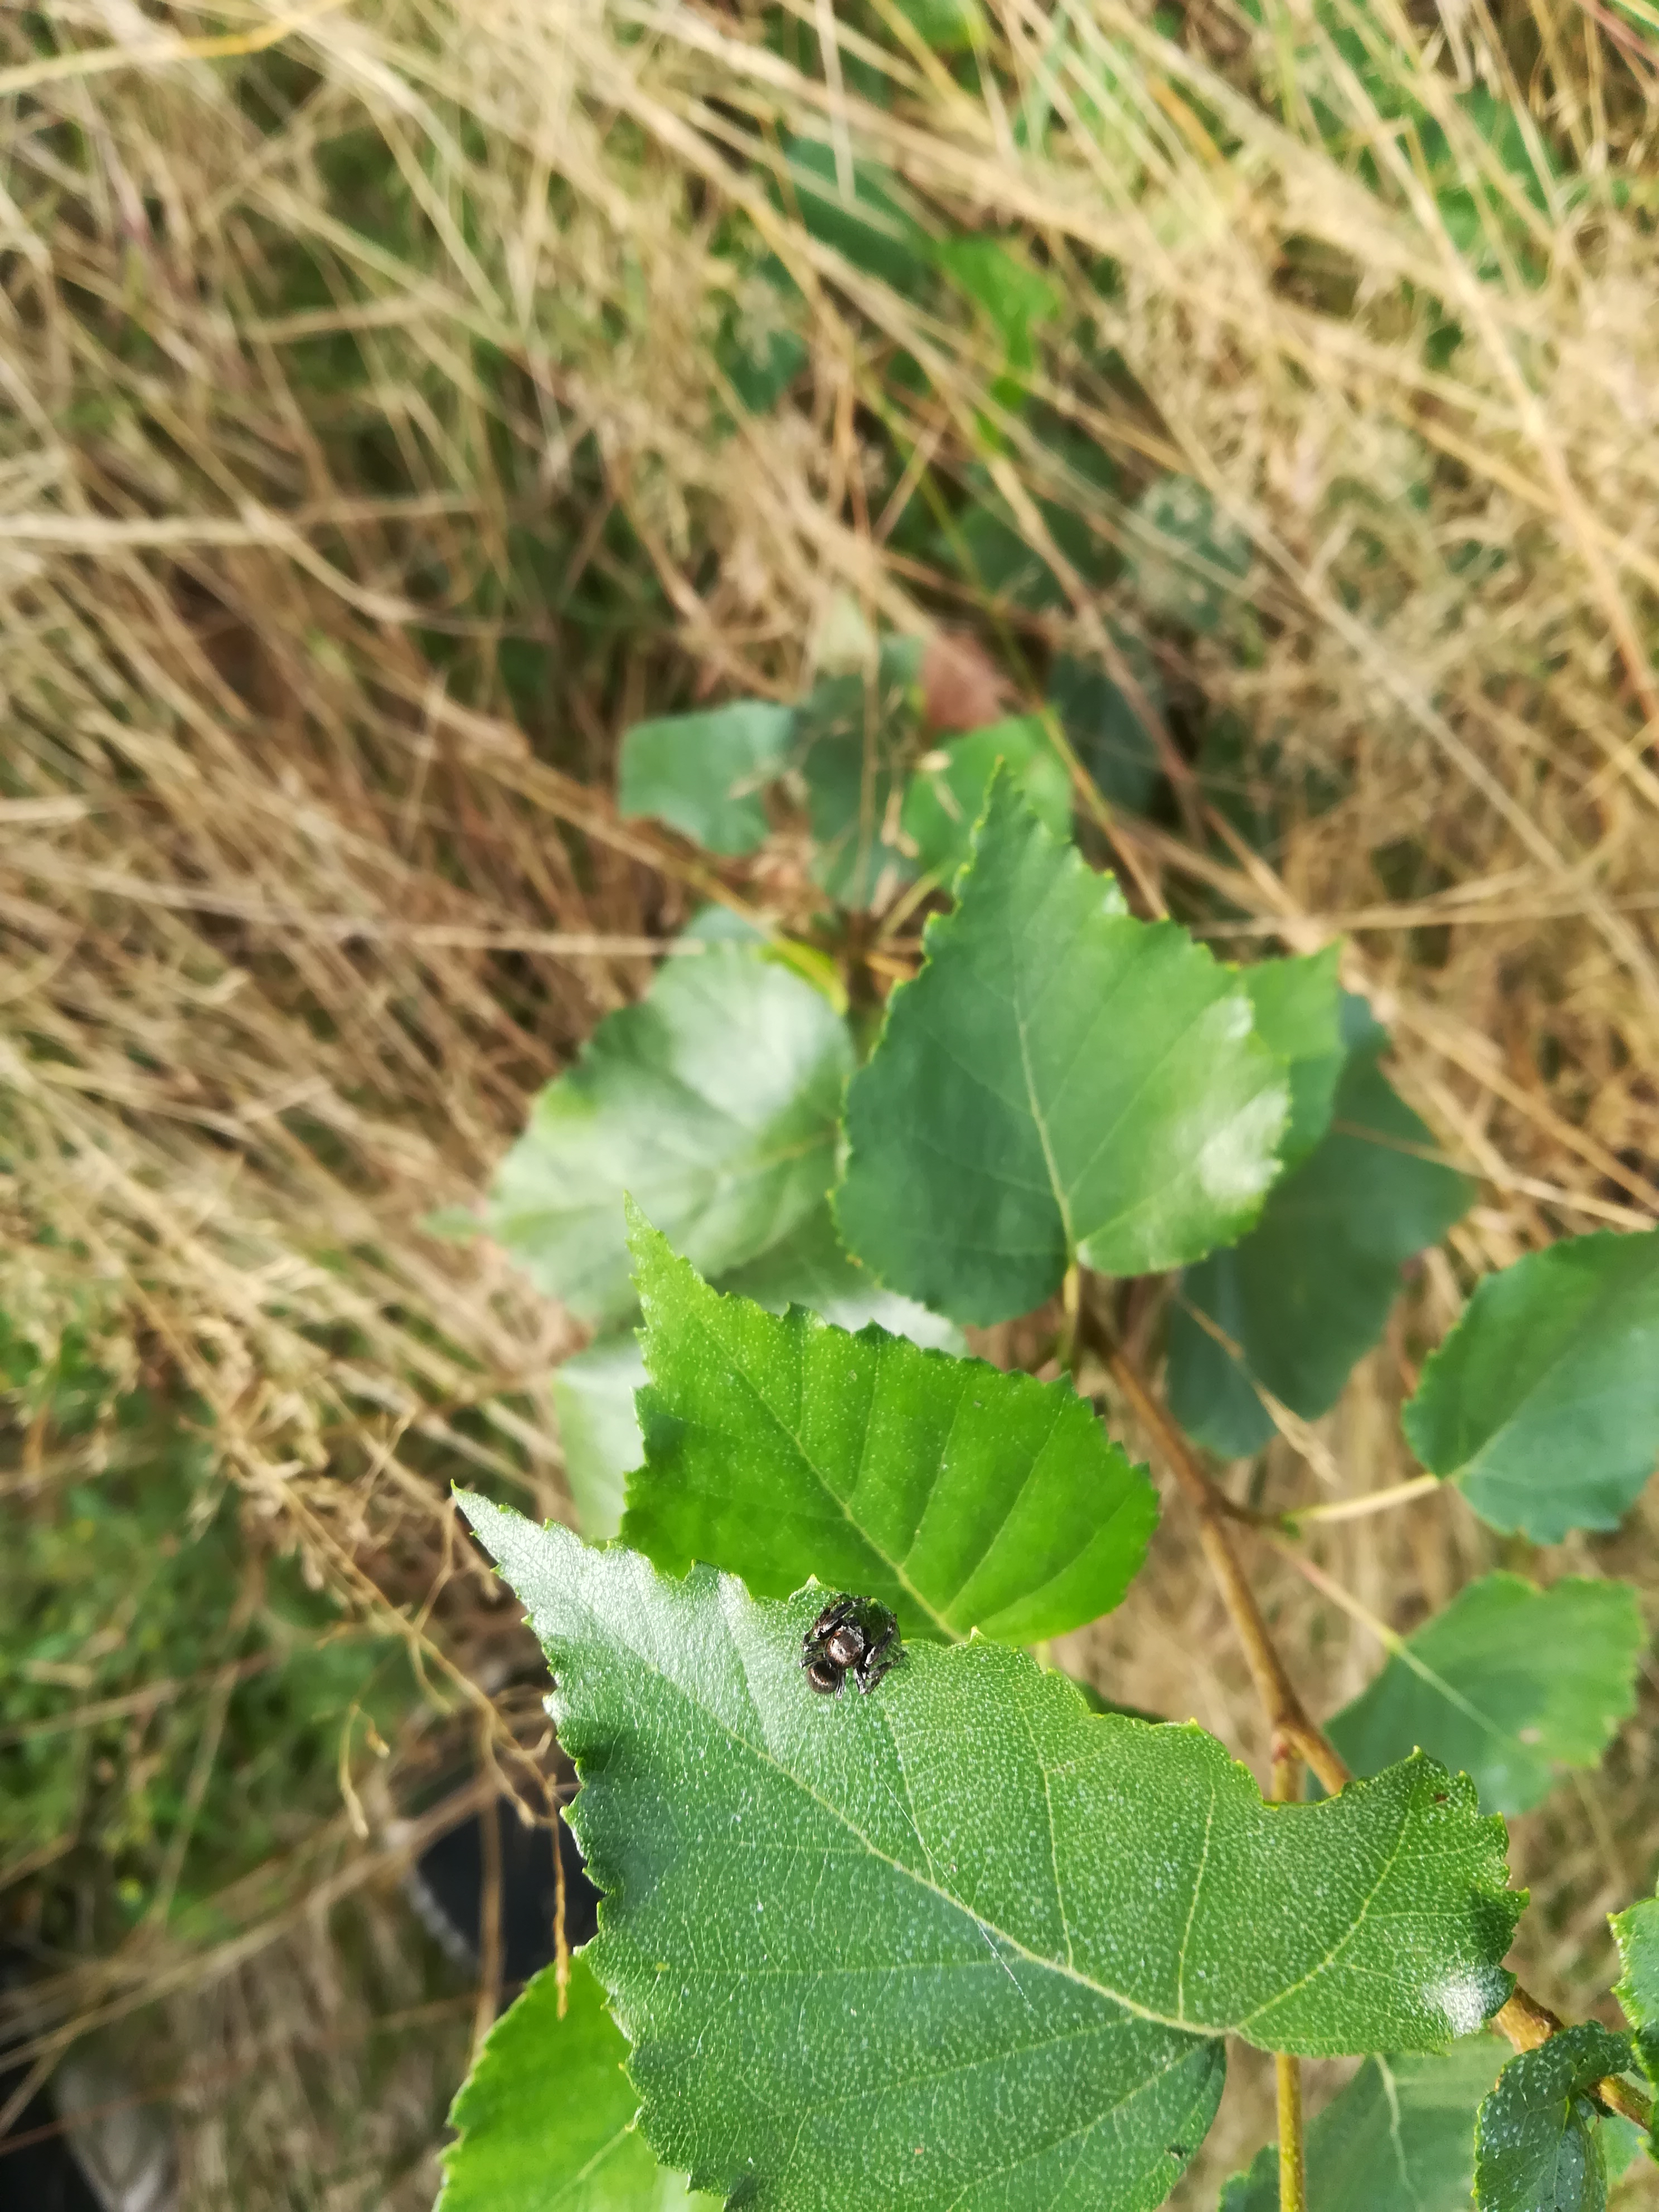spider: (755, 1559, 932, 1731)
